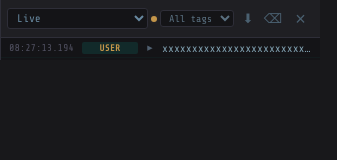
Test: long single-line entry — collapsible › clicking toggle expands (▼ icon)
Click the button with class "log-entry-toggle".
click(150, 48)  # box 143,43 -> 157,53
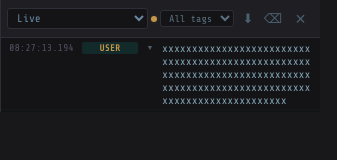
Expected: the button with class "log-entry-toggle" reads "▼", 143,43 -> 157,53
